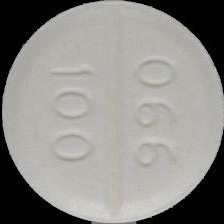55695-027: (0, 0, 224, 224)
